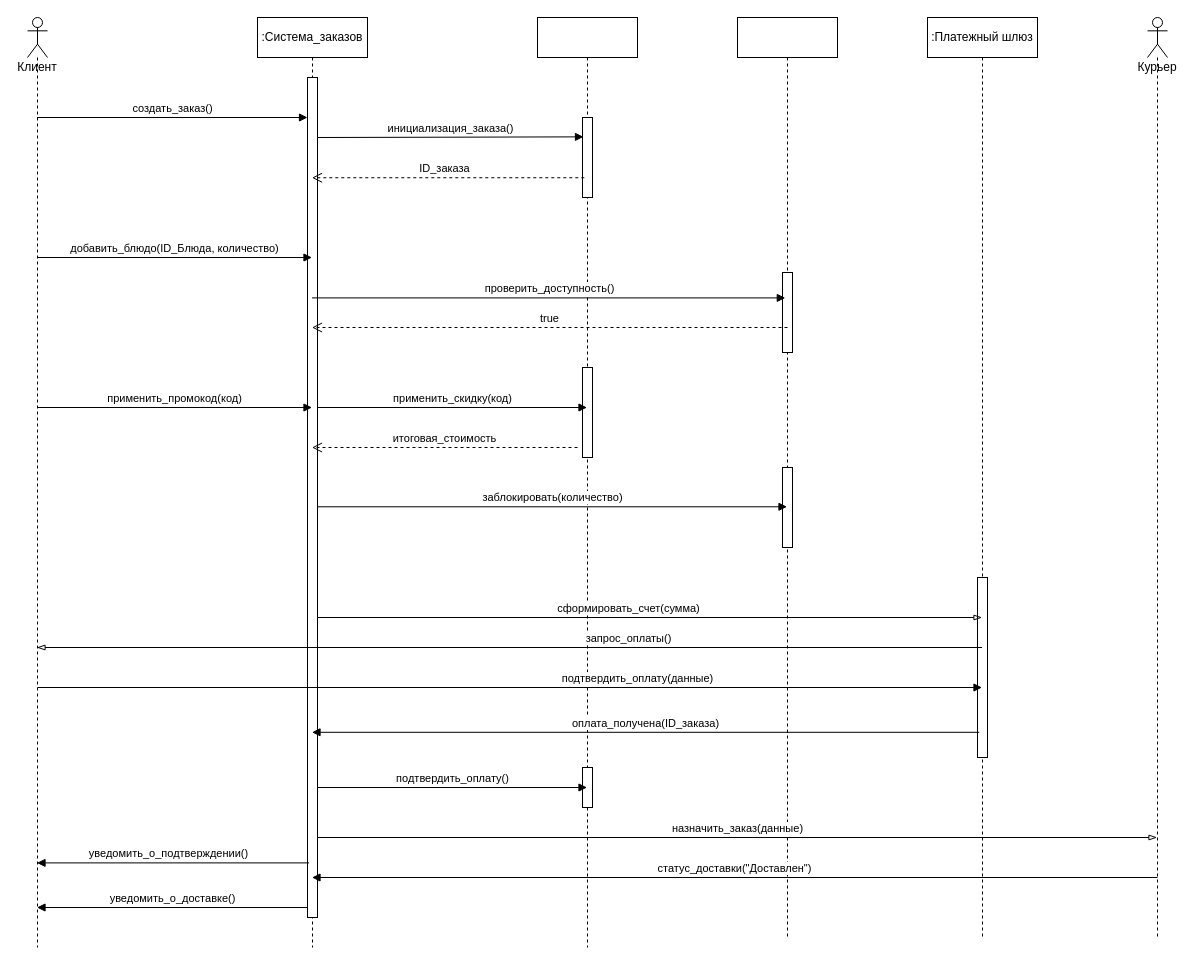
This 1194x965 diagram has some shape labels left out. The shapes that lost their labels are listed below. From the top down, each one's centre as x and y in pixels, then its label:
At pixel 587 482: ":Заказ".
At pixel 787 477: ":Блюдо".
